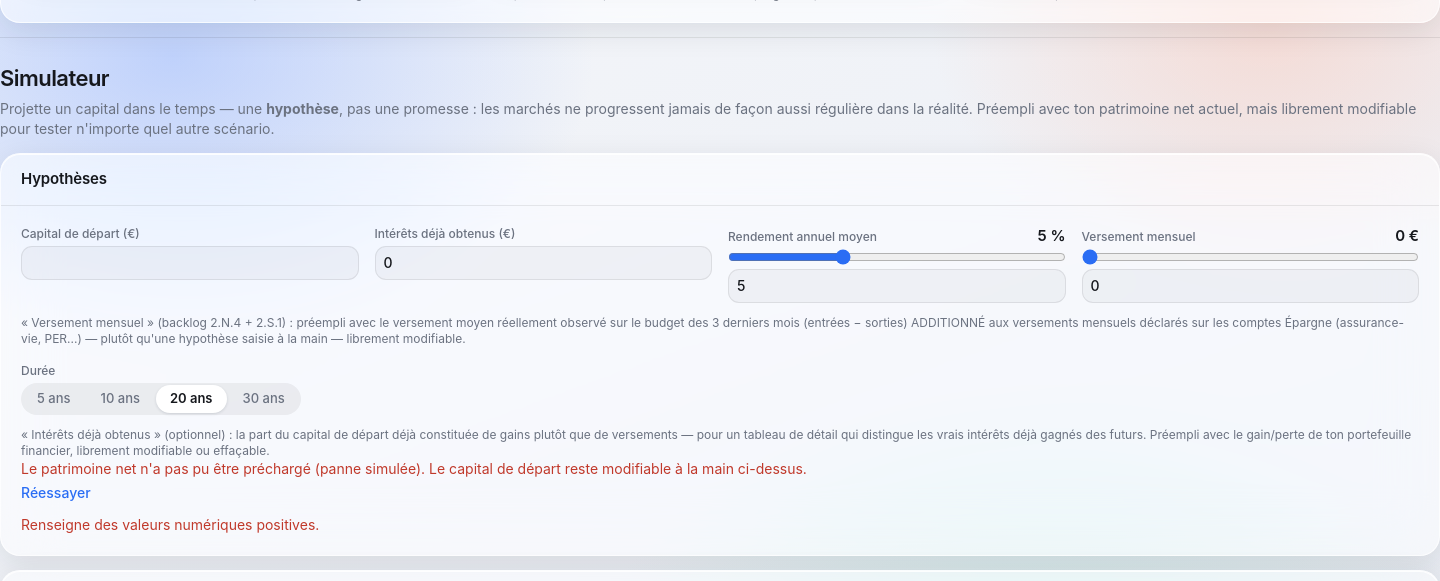
Test: SimulateurPage › un échec de chargement du patrimoine net affiche une erreur avec action de reprise (backlog 2.K.5)
This screenshot has width=1440, height=581.
(page scrolled)
Expected: the text "n'a pas pu être préchargé" is shown, [21, 460, 807, 477]
Click the button "Réessayer" at [56, 493], box [21, 483, 91, 503]
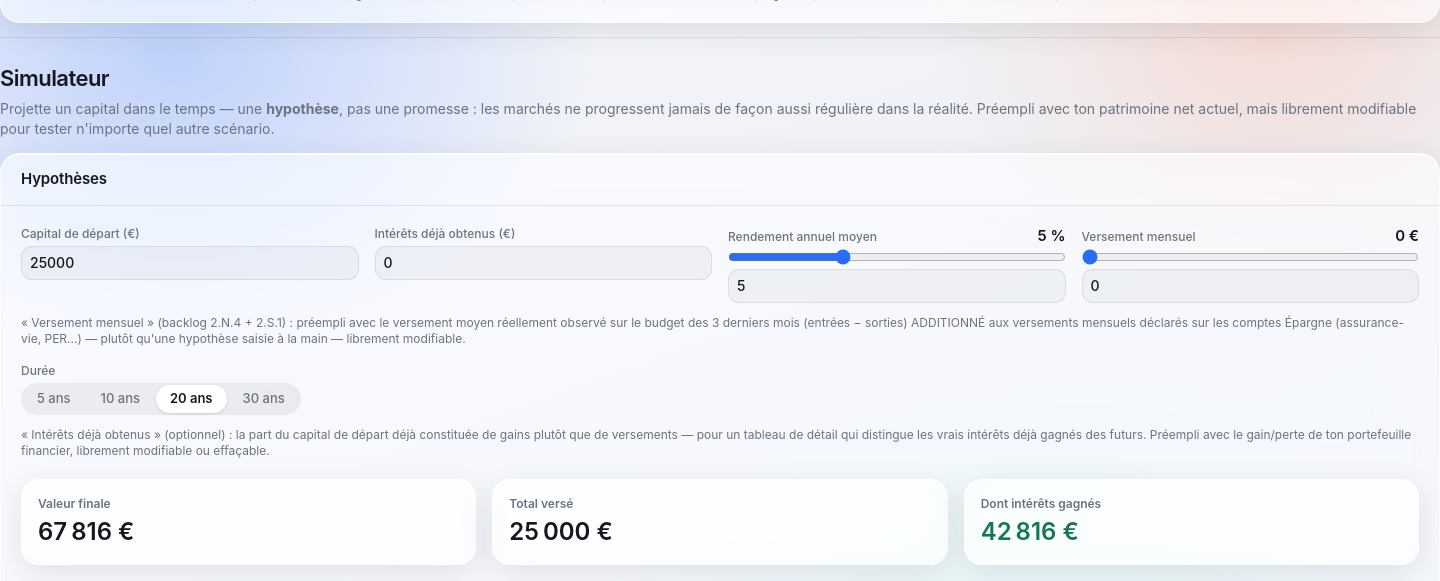
Expected: the number field labelled "Capital de départ (€)" holds "25000", [21, 246, 358, 280]
